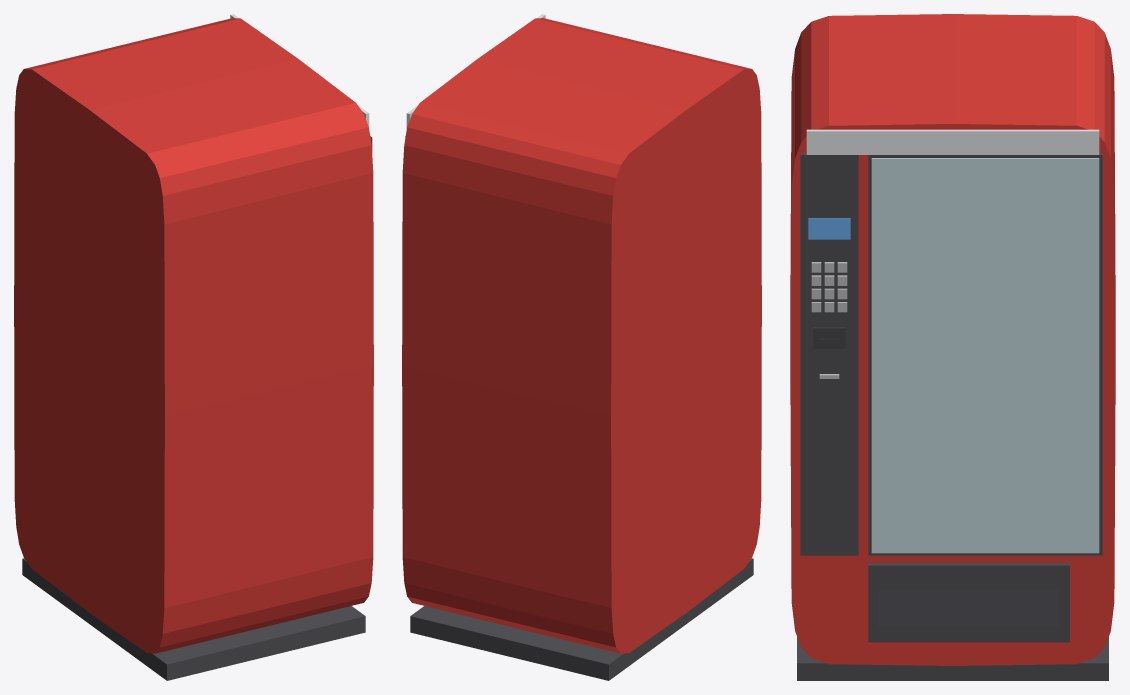
Rendered from SM_Prop_VendingMachine.fbx.
The picture shows the model from 3 angles, left to right: view 1: azimuth 30°, elevation 25°; view 2: azimuth 150°, elevation 25°; view 3: azimuth 270°, elevation 25°; orthographic projection. The views are drawn at different scales.
Visible parts, largest first — view 1: SM_Prop_VendingMachine; view 2: SM_Prop_VendingMachine; view 3: SM_Prop_VendingMachine.
Part boxes in pixels (x1,y1,x2,y2): SM_Prop_VendingMachine: [14, 14, 373, 680]; SM_Prop_VendingMachine: [402, 14, 761, 680]; SM_Prop_VendingMachine: [790, 14, 1115, 680].
Size of the model in its own units: 1 by 0.8446 by 1.9.
